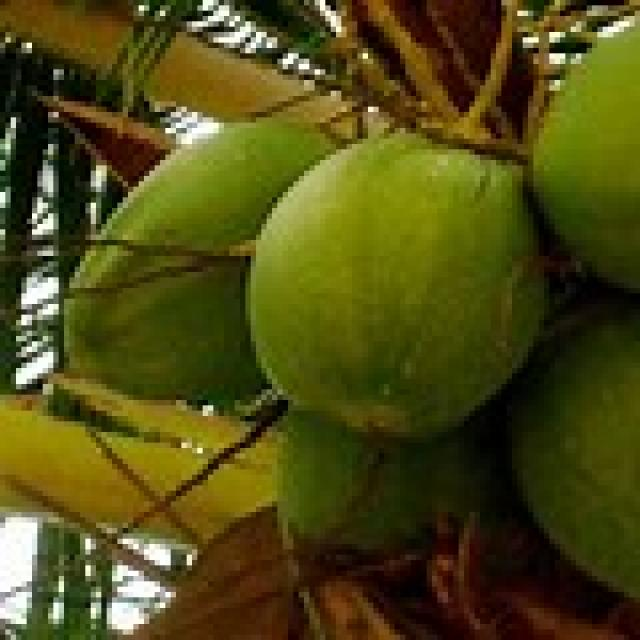coconut: (252, 140, 534, 438)
